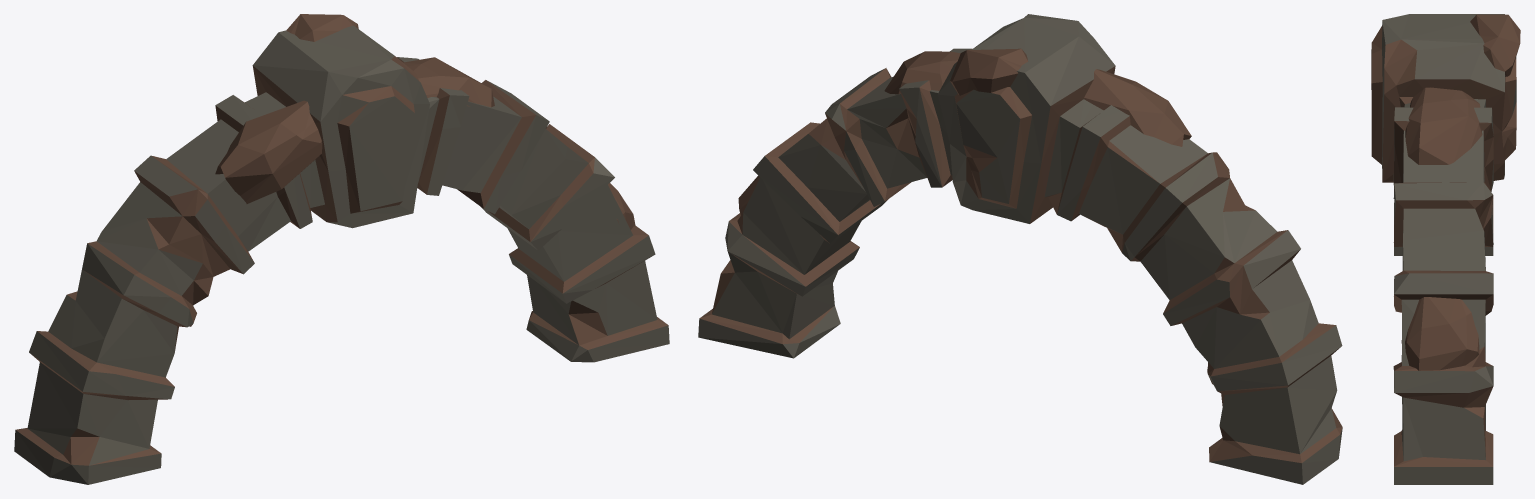
The model's file is synty-prop-pillar-arch-moss-01.gltf.
3 views of the same model, side by side, from view 1: azimuth 30°, elevation 25°; view 2: azimuth 150°, elevation 25°; view 3: azimuth 270°, elevation 25° (orthographic). The views are drawn at different scales.
Visible parts, largest first — view 1: SM_Prop_Pillar_Arch_Moss_01; view 2: SM_Prop_Pillar_Arch_Moss_01; view 3: SM_Prop_Pillar_Arch_Moss_01.
Part boxes in pixels (left/top/right/bottom): SM_Prop_Pillar_Arch_Moss_01: left=14, top=14, right=669, bottom=484; SM_Prop_Pillar_Arch_Moss_01: left=698, top=14, right=1342, bottom=484; SM_Prop_Pillar_Arch_Moss_01: left=1371, top=14, right=1520, bottom=484.
Bounding box in the file's own units: 2.57 × 1.47 × 0.5973.
Materials: 1 (1 with a texture image).
